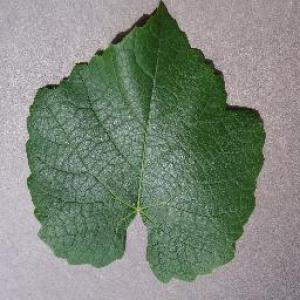Folha: (25, 0, 266, 284)
